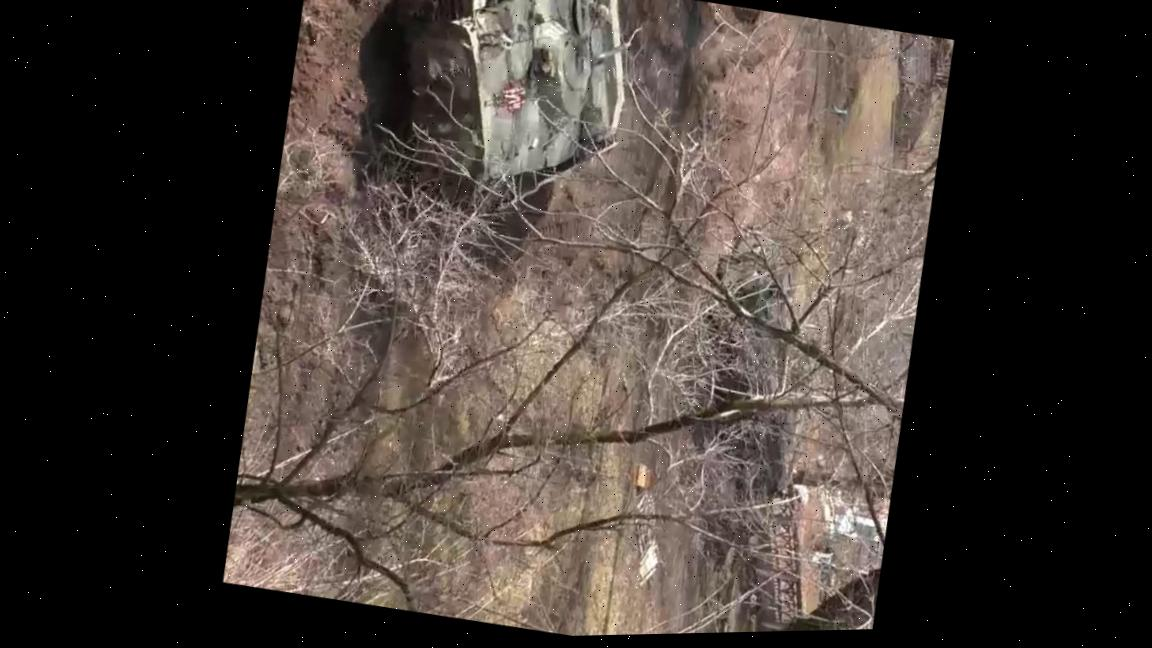tank: (354, 0, 650, 243)
